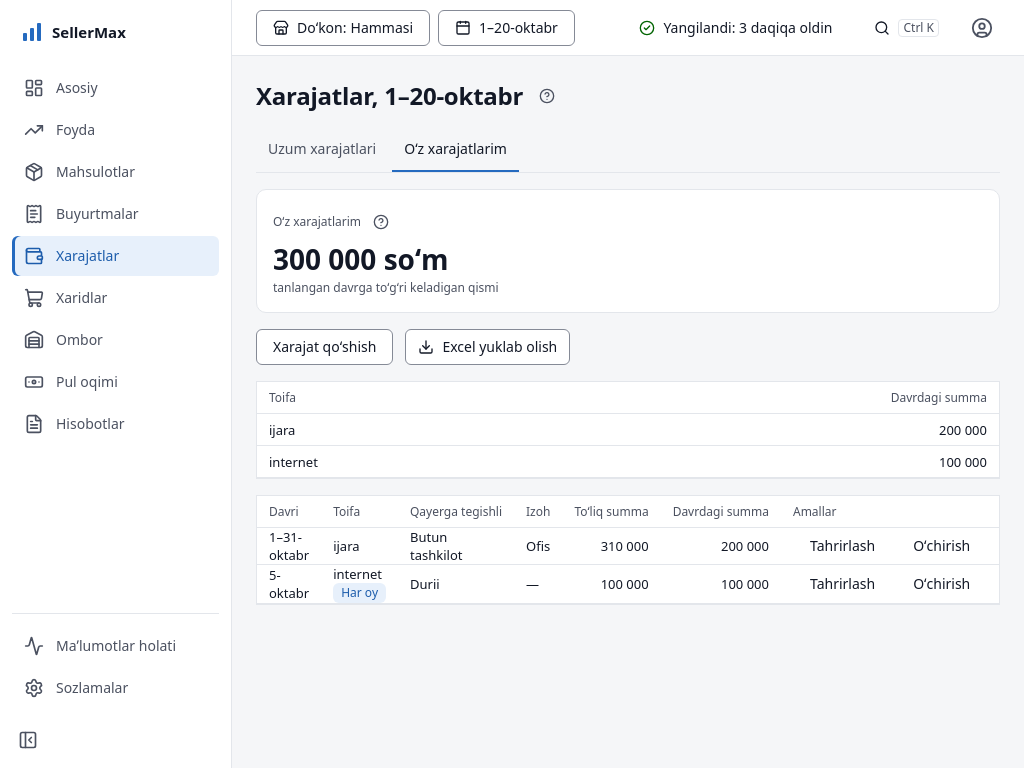
oʻz xarajatlarim › server xatosi shaklda ko'rsatiladi; buxgalter faqat ko'radi (qo'shish va amallar yo'q)
Check: the table named "Oʻz xarajatlarim roʻyxati" is shown, box [257,496,999,604]
Click the button "Xarajat qoʻshish": (325, 347) [256,329,393,365]
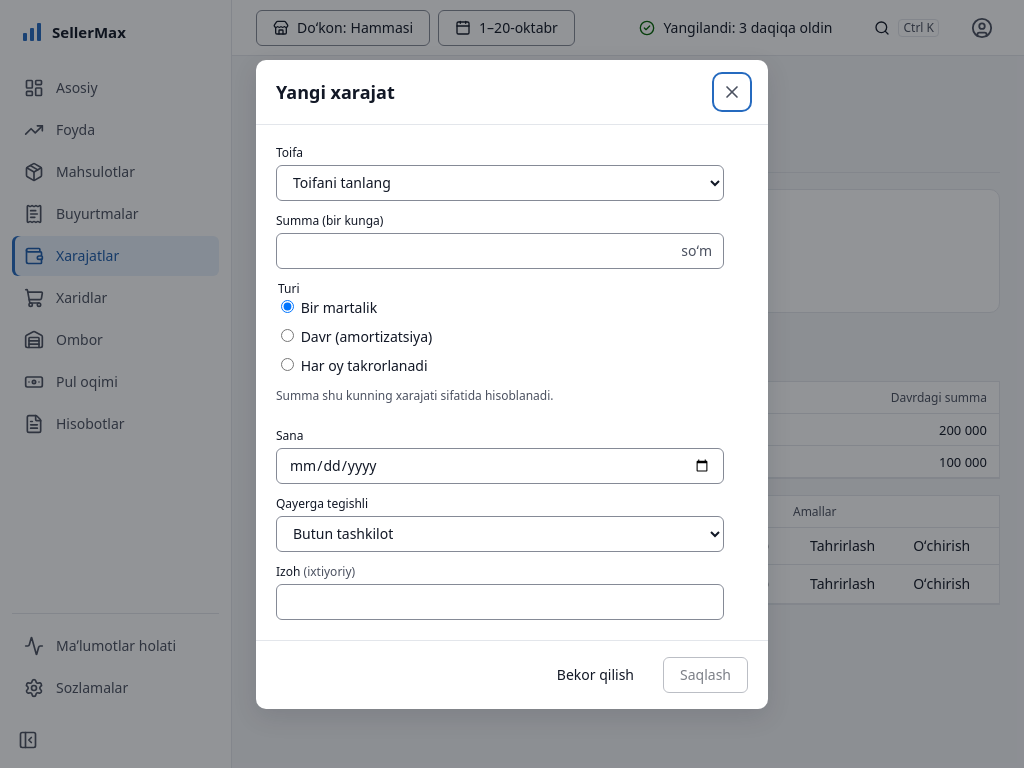
Select "ijara" in the dropdown labelled "Toifa": (500, 182) [276,164,724,200]
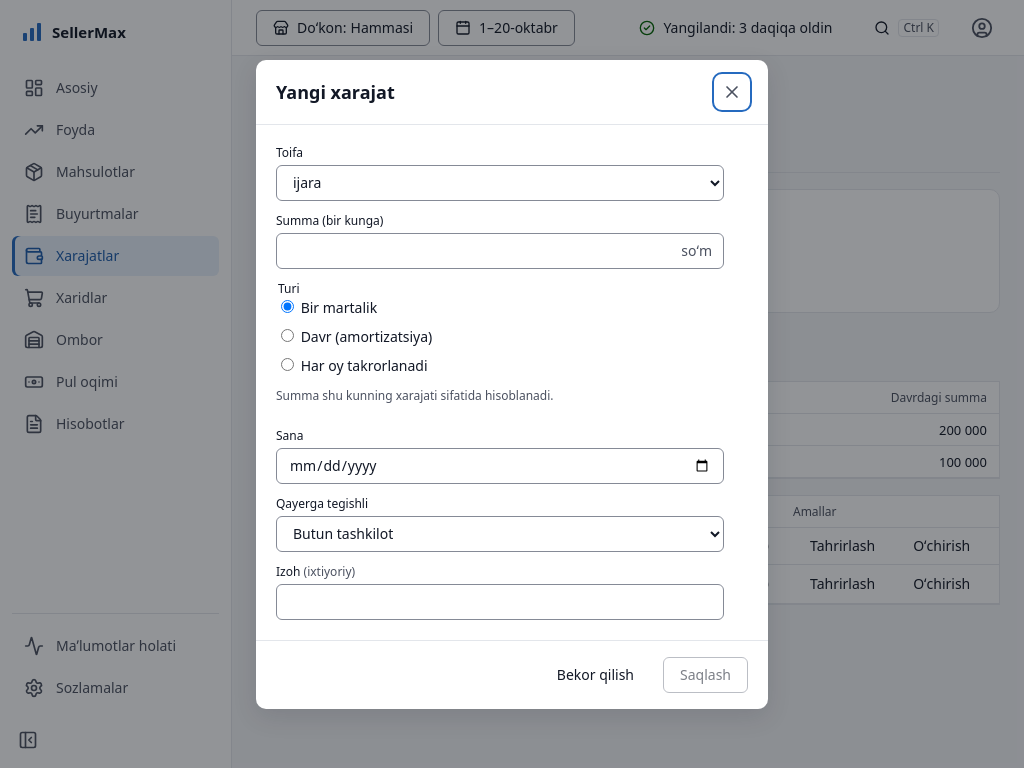
In the field labelled "Summa (bir kunga)": (500, 250) [276,232,724,268], type "1000"
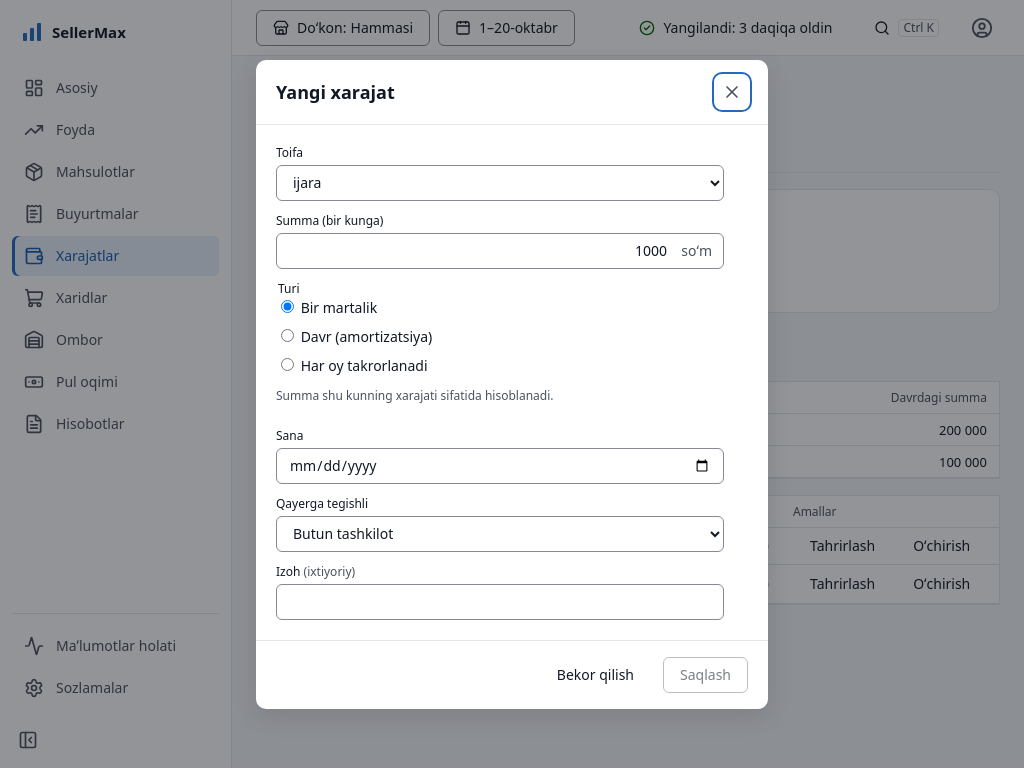
In the date field labelled "Sana": (500, 466) [276,448,724,484], type "2026-10-10"
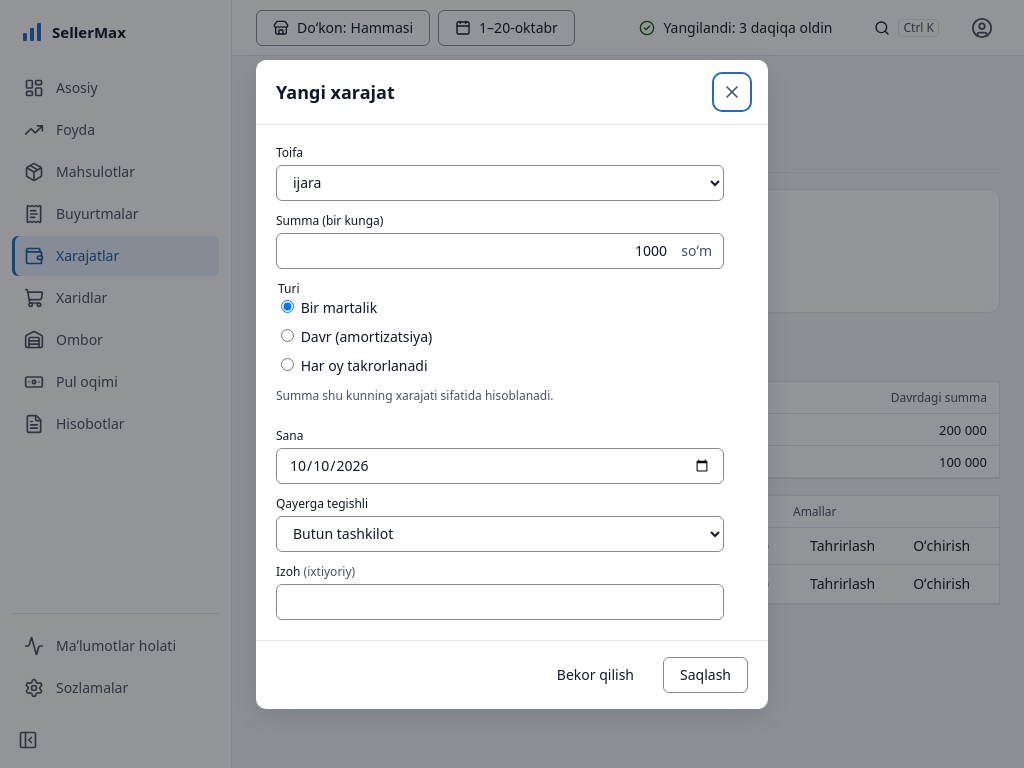
Click the button "Saqlash": (706, 674) [663,656,748,692]
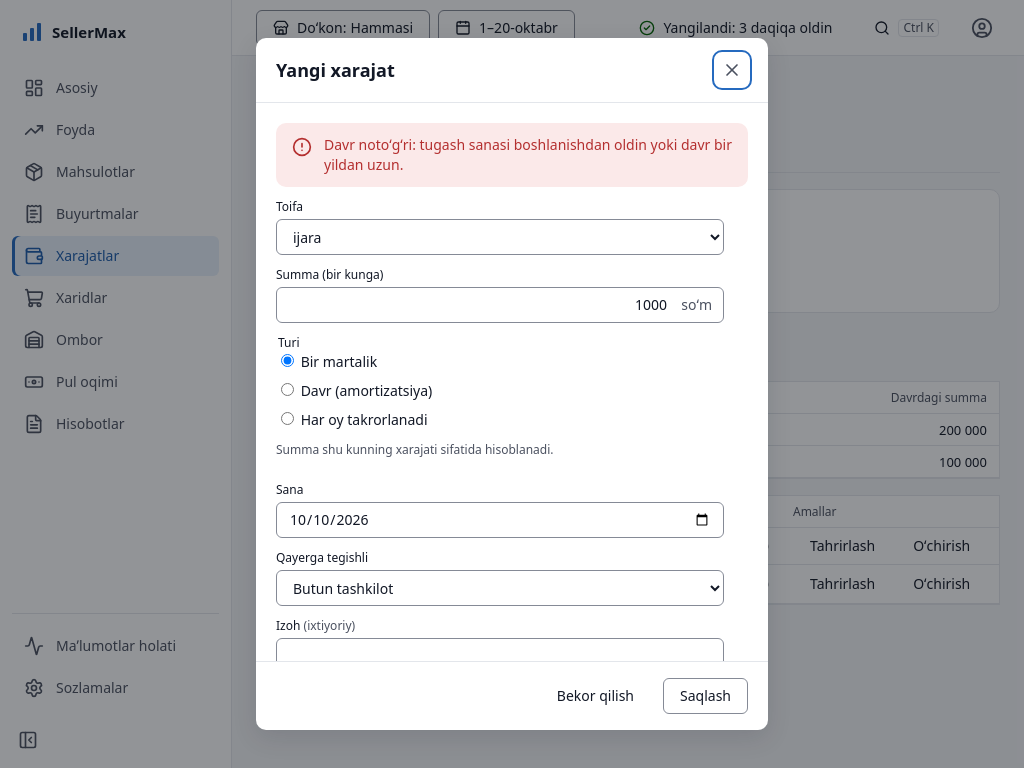
Check: the message "Davr notoʻgʻri: tugash sanasi boshlanishdan oldin yoki davr bir yildan uzun." is shown, box [276,123,748,187]
